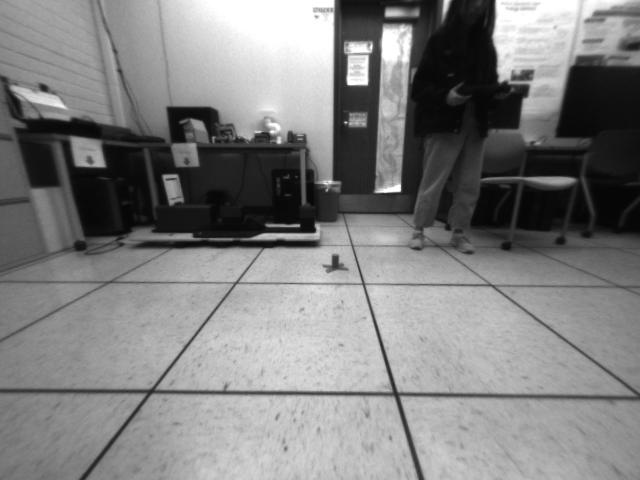x: (321, 252, 350, 274)
